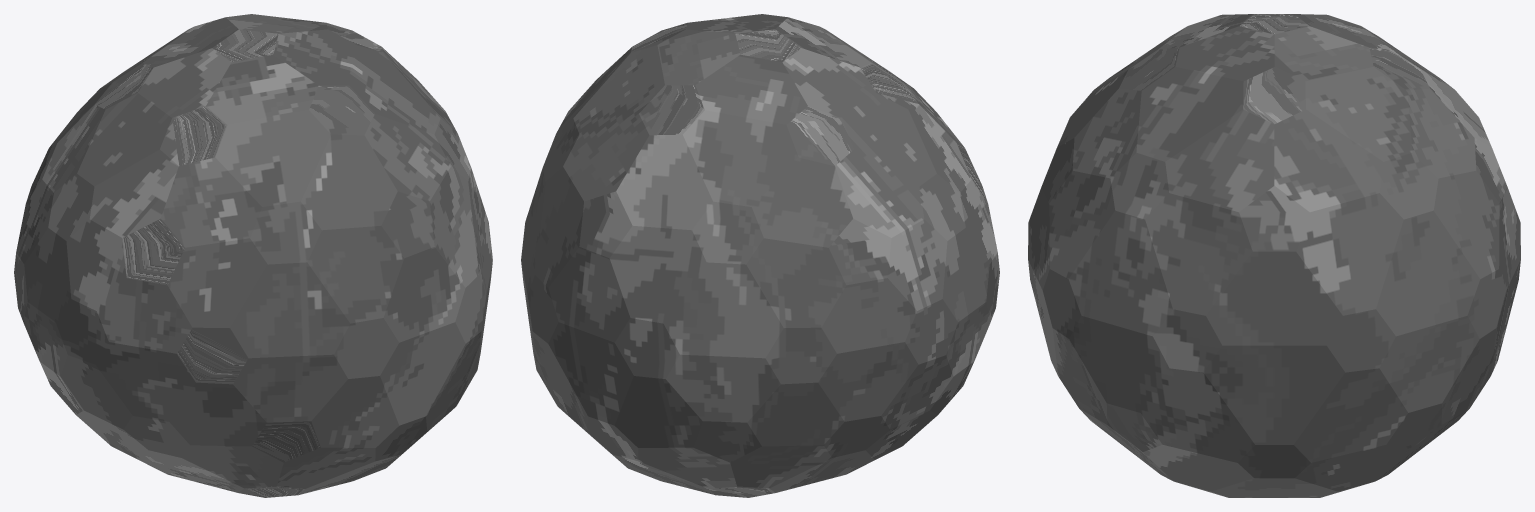
Rendered from grenade.glb.
3 renders of one model, left to right at view 1: azimuth 30°, elevation 25°; view 2: azimuth 150°, elevation 25°; view 3: azimuth 270°, elevation 25°, orthographic.
Parts seen in each view (by area): view 1: Icosphere; view 2: Icosphere; view 3: Icosphere.
Boxes of the visible parts, <box> form: Icosphere: <box>14,14,492,497</box>; Icosphere: <box>521,14,999,497</box>; Icosphere: <box>1028,14,1520,497</box>.
Bounding box in the file's own units: 1.9 × 1.95 × 1.94.
1 material, 1 textured.
